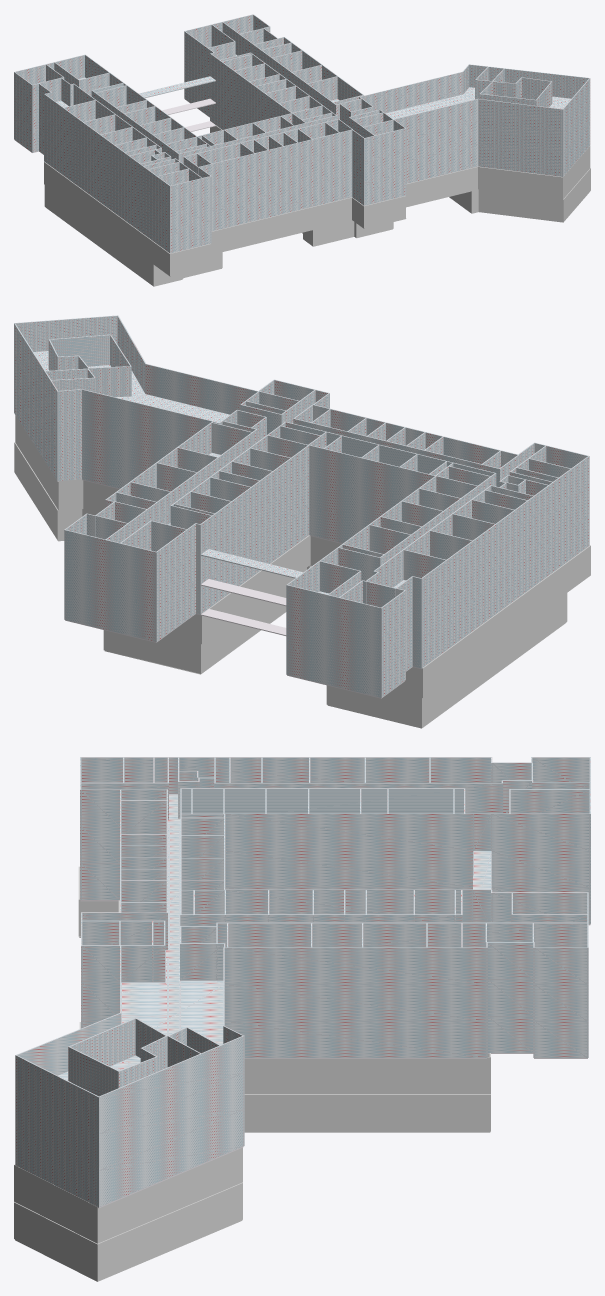
The picture shows the model from 3 angles, top to bottom: view 1: azimuth 30°, elevation 25°; view 2: azimuth 150°, elevation 25°; view 3: azimuth 270°, elevation 25°; orthographic projection. The views are drawn at different scales.
Visible parts, largest first — view 1: 5F floor, 4F floor, 3F floor, 2f floor, 1f floor; view 2: 5F floor, 4F floor, 3F floor, 1f floor, 2f floor; view 3: 5F floor, 4F floor, 3F floor, 1f floor, 2f floor.
Part boxes in pixels (box(x1,y1,x2,y2)): 5F floor: box(14, 14, 590, 208); 4F floor: box(14, 54, 590, 230); 3F floor: box(14, 76, 590, 253); 2f floor: box(44, 125, 590, 276); 1f floor: box(44, 168, 590, 286); 5F floor: box(14, 315, 589, 637); 4F floor: box(14, 353, 589, 667); 3F floor: box(14, 383, 589, 698); 1f floor: box(14, 442, 567, 728); 2f floor: box(15, 415, 590, 697); 5F floor: box(15, 757, 590, 1133); 4F floor: box(15, 826, 590, 1170); 3F floor: box(15, 863, 590, 1207); 1f floor: box(14, 1094, 490, 1281); 2f floor: box(14, 866, 490, 1243).
Size of the model in its own units: 59726 by 15100 by 42711.
Materials: 1 (1 with a texture image).
